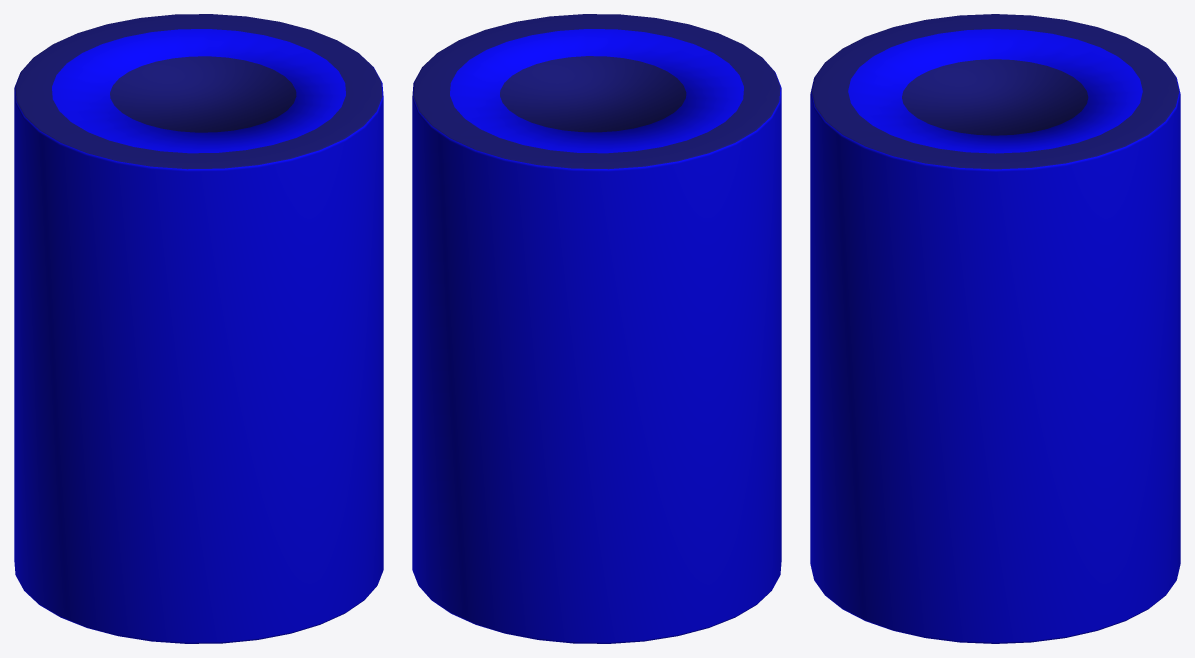
File: nitrobarrel.fbx
The picture shows the model from 3 angles, left to right: view 1: azimuth 30°, elevation 25°; view 2: azimuth 150°, elevation 25°; view 3: azimuth 270°, elevation 25°; orthographic projection.
Parts seen in each view (by area): view 1: Cylinder; view 2: Cylinder; view 3: Cylinder.
Part boxes in pixels (x1,y1,x2,y2): Cylinder: (14, 14, 383, 643); Cylinder: (412, 14, 781, 643); Cylinder: (810, 14, 1180, 643).
Bounding box in the file's own units: 481 × 681 × 481.
